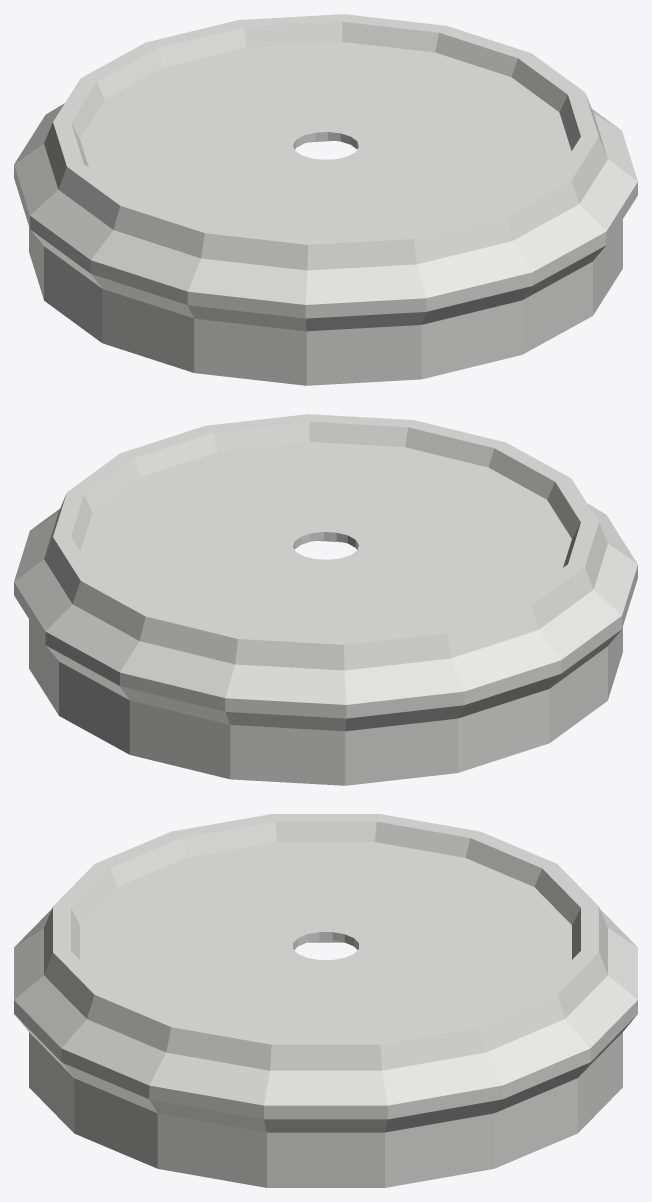
File: SM_Cook_CupFlatLid_01.fbx
3 views of the same model, one above another, from view 1: azimuth 30°, elevation 25°; view 2: azimuth 150°, elevation 25°; view 3: azimuth 270°, elevation 25° (orthographic).
Visible parts, largest first — view 1: SM_Cook_CupFlatLid_01; view 2: SM_Cook_CupFlatLid_01; view 3: SM_Cook_CupFlatLid_01.
Boxes of the visible parts, x1,y1,x2,y2 form: SM_Cook_CupFlatLid_01: (14,14,637,385); SM_Cook_CupFlatLid_01: (14,414,637,785); SM_Cook_CupFlatLid_01: (14,814,637,1187).
Size of the model in its own units: 0.102 by 0.024 by 0.102.
Materials: 1 (1 with a texture image).
